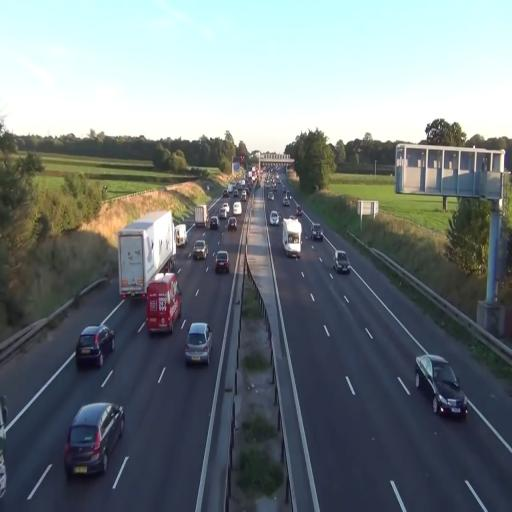vehicle: (118, 208, 176, 304), (117, 208, 177, 300), (64, 400, 126, 478), (416, 351, 466, 420), (146, 271, 182, 335), (76, 324, 115, 368), (184, 322, 212, 366), (282, 218, 302, 258), (334, 250, 351, 275), (214, 250, 229, 274), (192, 238, 208, 260), (310, 226, 324, 244), (269, 210, 279, 226)
